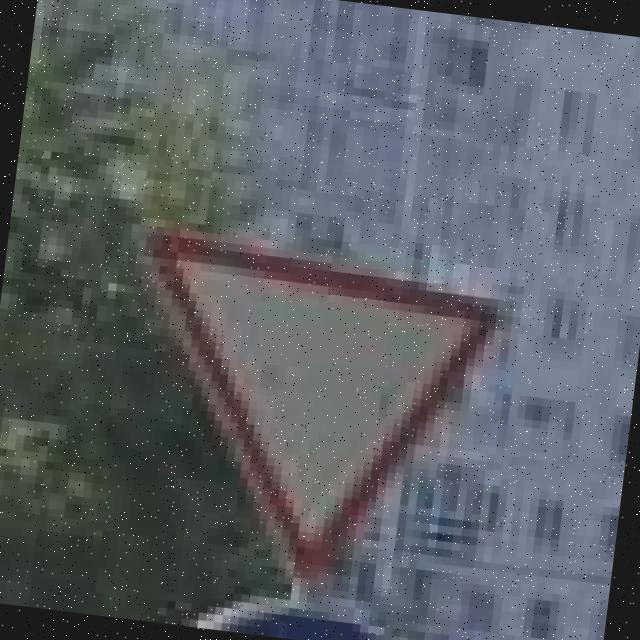Ustap pierwszenstwa: (91, 216, 511, 606)
